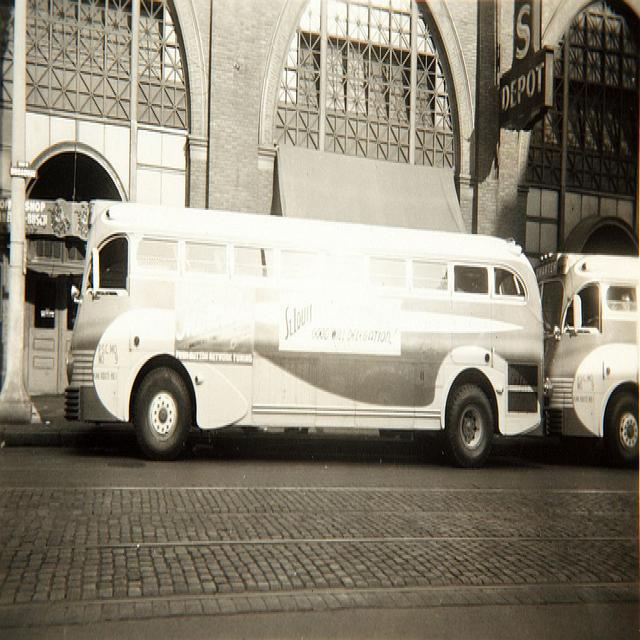Vehicle: (64, 201, 542, 464), (535, 255, 640, 463)
